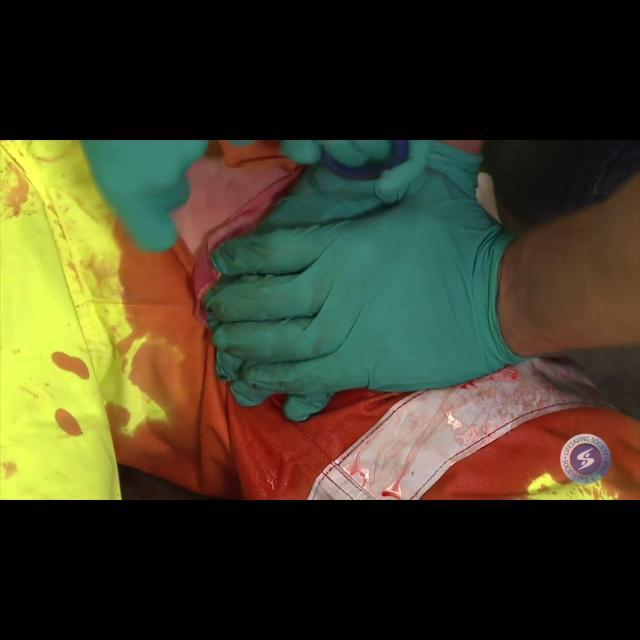blood: (108, 142, 640, 500), (52, 352, 89, 379), (54, 409, 82, 436)
